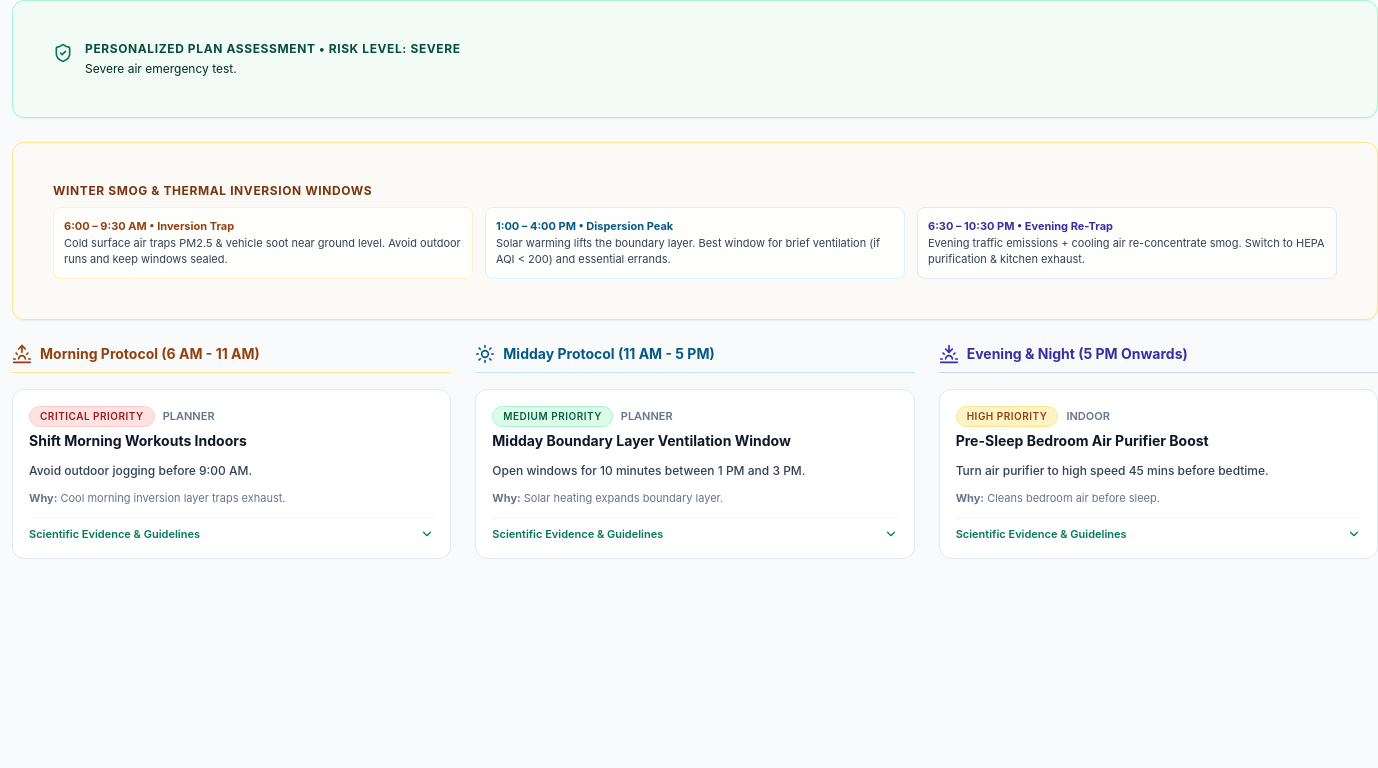
DailyPlanner Component › expands evidence accordion on click
This screenshot has width=1378, height=768.
Click the button "Scientific Evidence & Guidelines" below "Avoid outdoor jogging before 9:00 AM.". click: (114, 534)
box: [29,526,434,542]
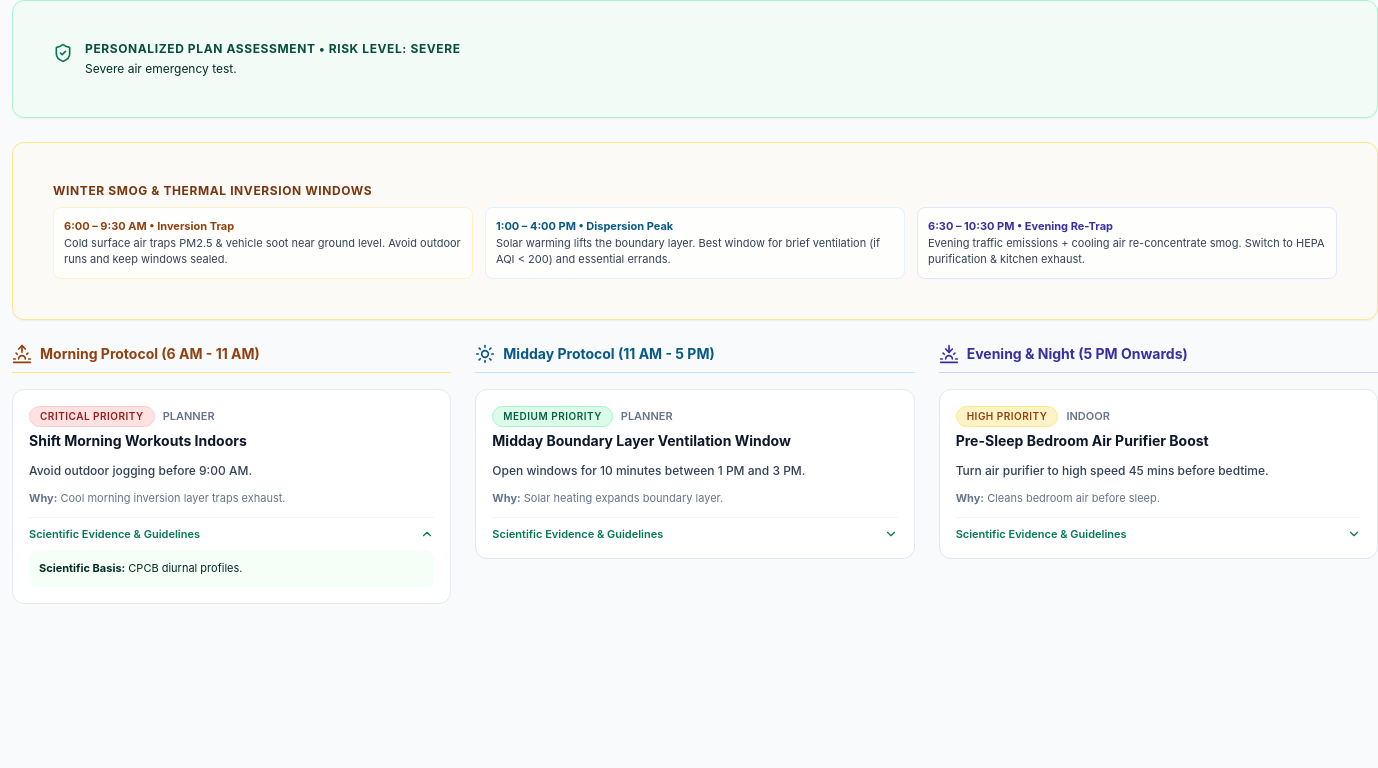
Check: the text "Scientific Basis: CPCB diurnal profiles." is shown, box [39,561,242,575]
